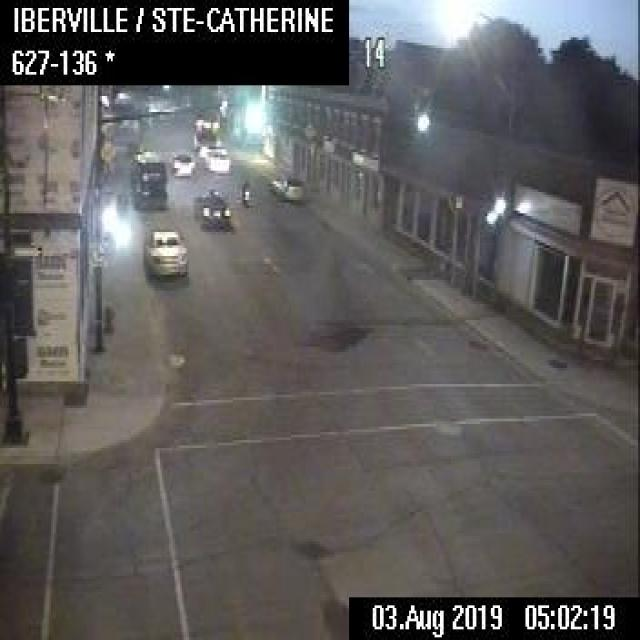vehicle: (143, 228, 187, 278), (130, 150, 165, 208), (192, 186, 230, 228), (193, 119, 220, 157), (270, 172, 303, 202), (203, 143, 229, 172), (169, 150, 192, 177), (240, 178, 250, 207)
